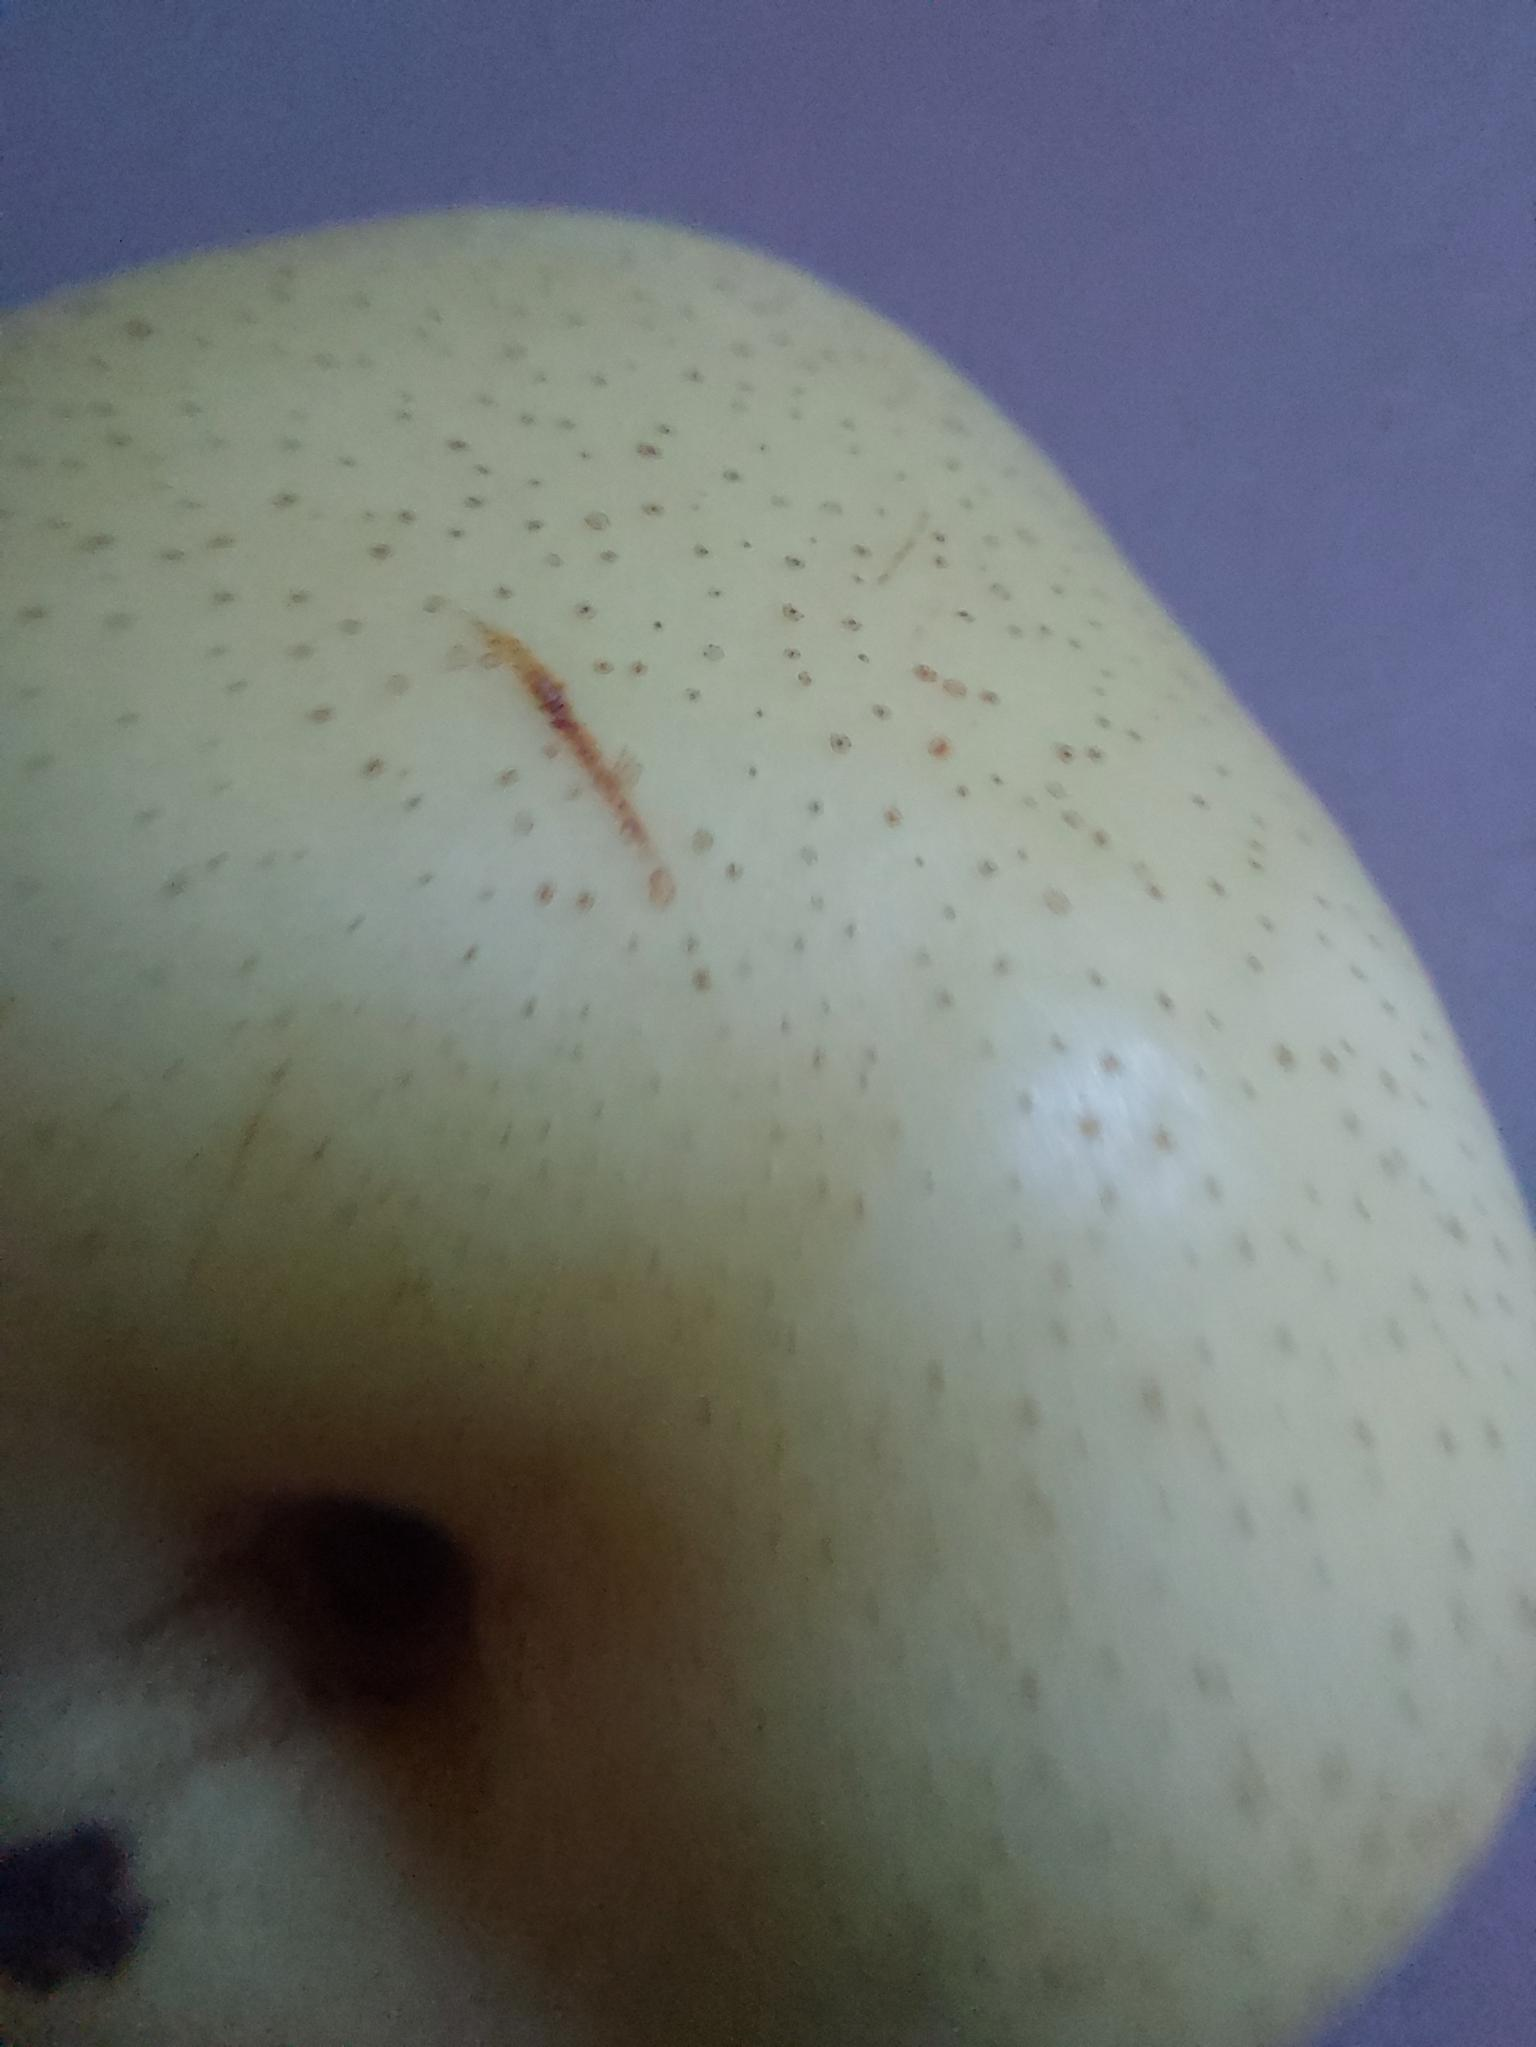Good Pear: (0, 181, 1536, 2047)
